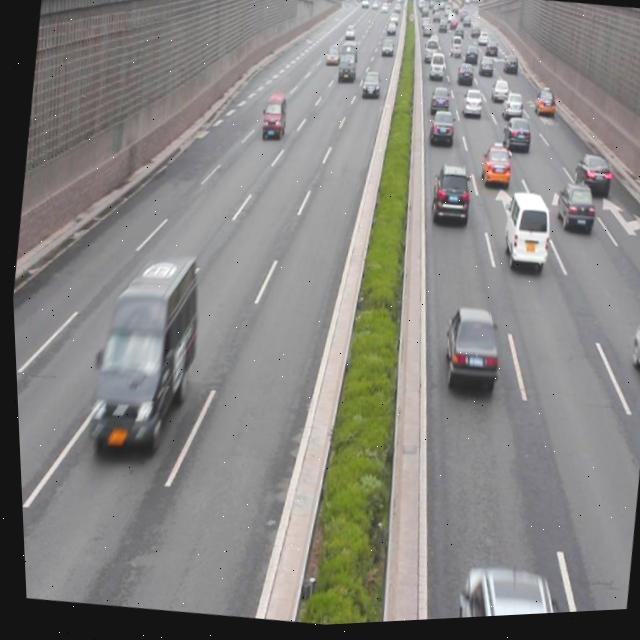car: (434, 308, 502, 402), (424, 166, 472, 235), (551, 189, 593, 241), (568, 159, 611, 206), (475, 146, 510, 194), (425, 111, 454, 154), (499, 121, 530, 160), (459, 94, 482, 124)
truck: (77, 252, 207, 464), (497, 194, 552, 278), (257, 94, 289, 146)
